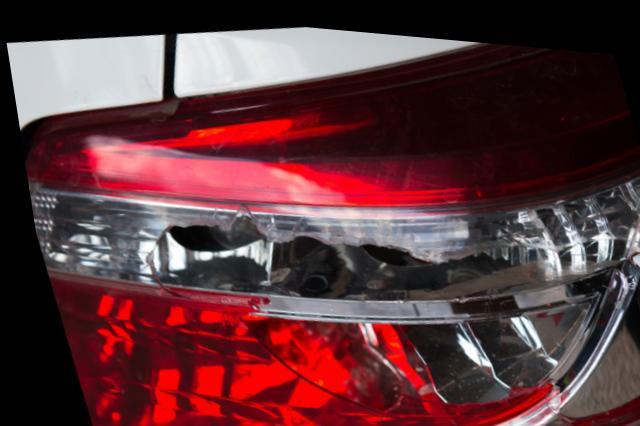lamp broken: (18, 34, 640, 426)
